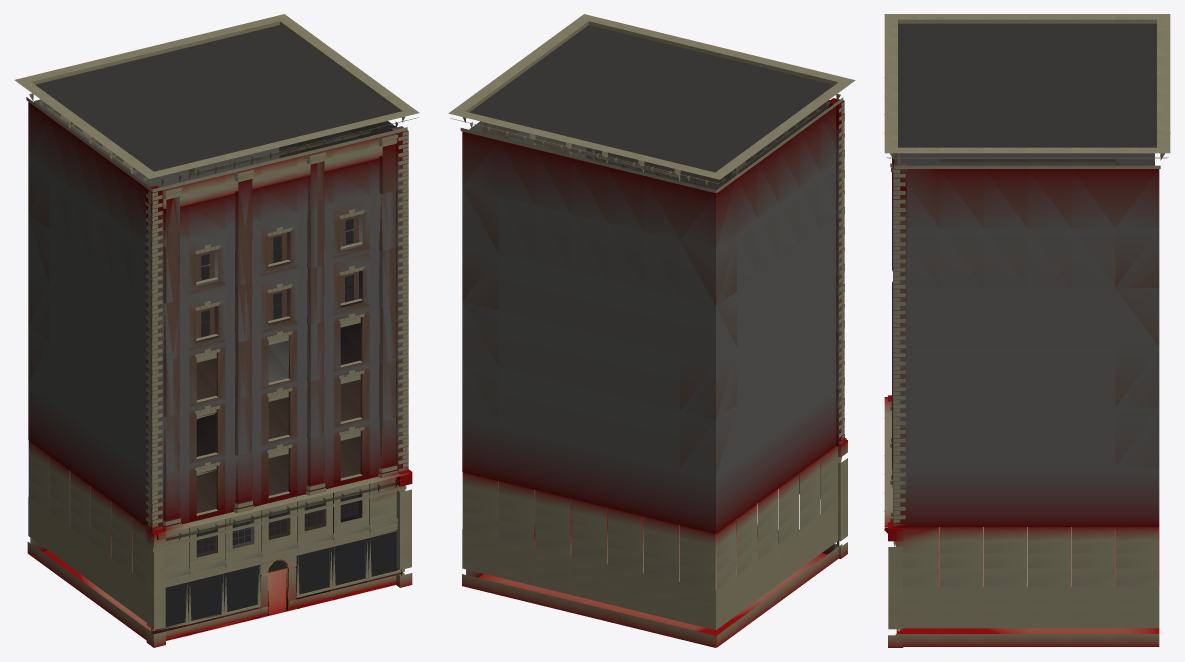
Rendered from downtown_medium.glb.
The picture shows the model from 3 angles, left to right: view 1: azimuth 30°, elevation 25°; view 2: azimuth 150°, elevation 25°; view 3: azimuth 270°, elevation 25°; orthographic projection. The views are drawn at different scales.
Parts seen in each view (by area): view 1: downtown_medium; view 2: downtown_medium; view 3: downtown_medium.
Boxes of the visible parts, x1,y1,x2,y2 form: downtown_medium: (14, 14, 419, 647); downtown_medium: (448, 14, 855, 647); downtown_medium: (884, 14, 1170, 647).
Bounding box in the file's own units: 15.03 × 25.01 × 13.03.
